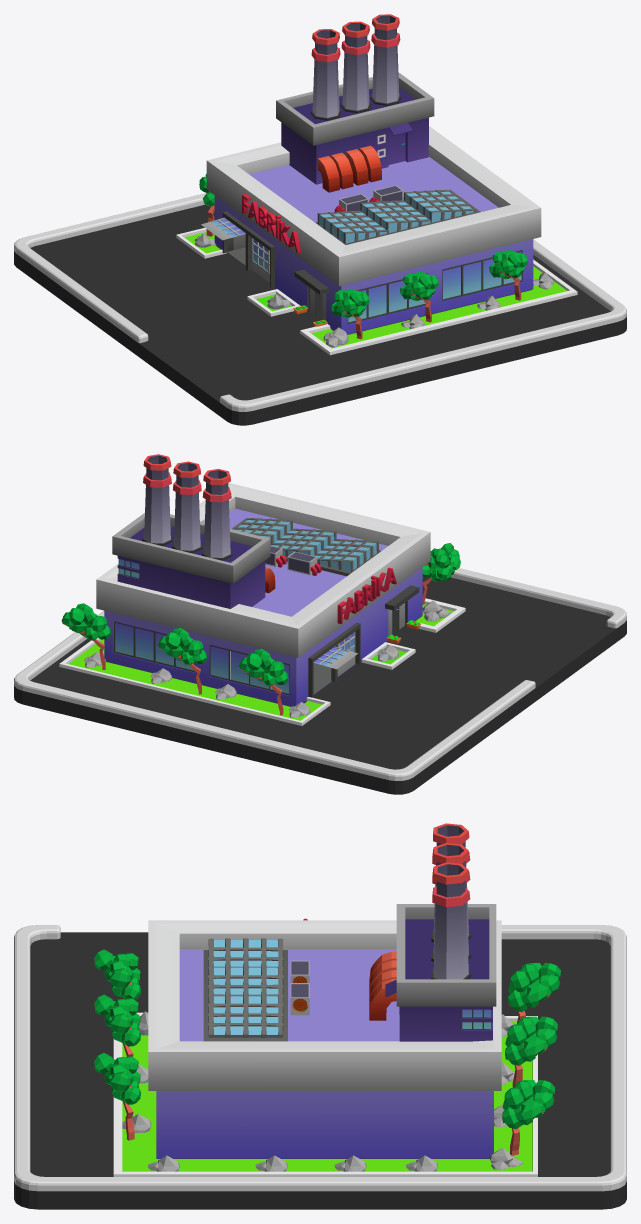
Rendered from Factory.fbx.
The picture shows the model from 3 angles, top to bottom: view 1: azimuth 30°, elevation 25°; view 2: azimuth 150°, elevation 25°; view 3: azimuth 270°, elevation 25°; orthographic projection. The views are drawn at different scales.
Visible parts, largest first — view 1: Factory; view 2: Factory; view 3: Factory.
Part boxes in pixels (box(x1,y1,x2,y2)): Factory: box(14, 14, 626, 425); Factory: box(14, 454, 626, 794); Factory: box(14, 823, 626, 1209).
Bounding box in the file's own units: 400 × 205 × 400.
